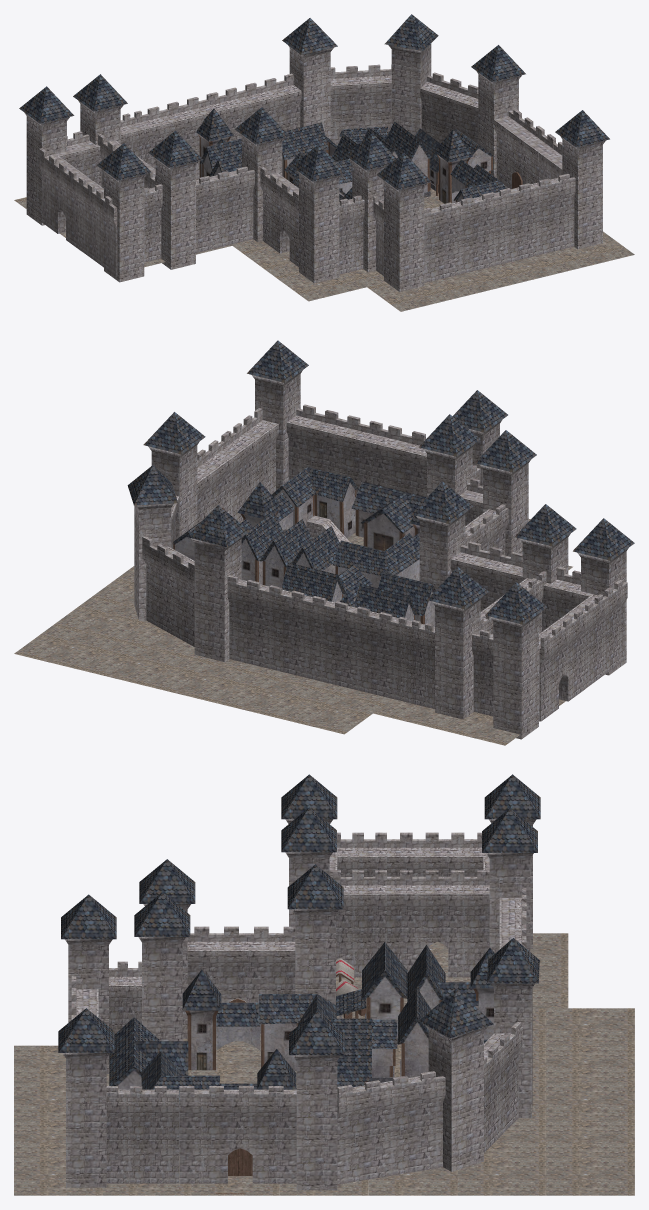
The model's file is Townblend.fbx.
3 views of the same model, one above another, from view 1: azimuth 30°, elevation 25°; view 2: azimuth 150°, elevation 25°; view 3: azimuth 270°, elevation 25° (orthographic). The views are drawn at different scales.
Visible parts, largest first — view 1: obj10.019, obj10.018, obj10.014, obj10.016, obj10.024, obj10.017, obj10.028, obj10.021, obj10.002, obj10.003, obj10.005, obj10.025 (+37 smaller); view 2: obj10.006, obj10.004, obj10.025, obj10.005, obj10.023, obj10.018, obj10.003, obj10.033, obj10.014, obj10.017, obj10.013, tower (+39 smaller); view 3: gate, obj10.001, obj10.029, obj10.002, tower, obj10.017, wall, obj10.011, obj10.015, obj10.013, obj10.005, obj10.023 (+46 smaller).
Boxes of the visible parts, x1,y1,x2,y2 form: obj10.019: (424,192,501,282); obj10.018: (495,173,575,264); obj10.014: (291,144,346,283); obj10.016: (377,152,431,291); obj10.024: (148,130,202,269); obj10.017: (555,110,609,249); obj10.028: (97,143,151,282); obj10.021: (196,166,254,252); obj10.002: (384,14,438,135); obj10.003: (330,64,391,145); obj10.005: (282,18,337,139); obj10.025: (19,86,74,225); obj10.006: (312,596,411,700); obj10.004: (227,575,314,679); obj10.025: (485,582,547,739); obj10.005: (186,505,249,662); obj10.023: (427,567,488,719); obj10.018: (286,404,382,494); obj10.003: (142,536,194,646); obj10.033: (539,609,588,721); obj10.014: (475,430,536,556); obj10.017: (247,340,308,490); obj10.013: (411,481,473,589); tower: (143,412,205,539); gate: (179,1086,296,1183); obj10.001: (337,1071,445,1184); obj10.029: (387,870,489,977); obj10.002: (418,989,493,1171); tower: (289,1010,344,1190); obj10.017: (58,1008,114,1187); wall: (106,1086,178,1183); obj10.011: (187,926,295,1033); obj10.015: (134,892,190,1041); obj10.013: (287,864,343,1004); obj10.005: (487,938,539,1118); obj10.023: (482,808,537,953).
Bounding box in the file's own units: 7095 × 2203 × 7000.
